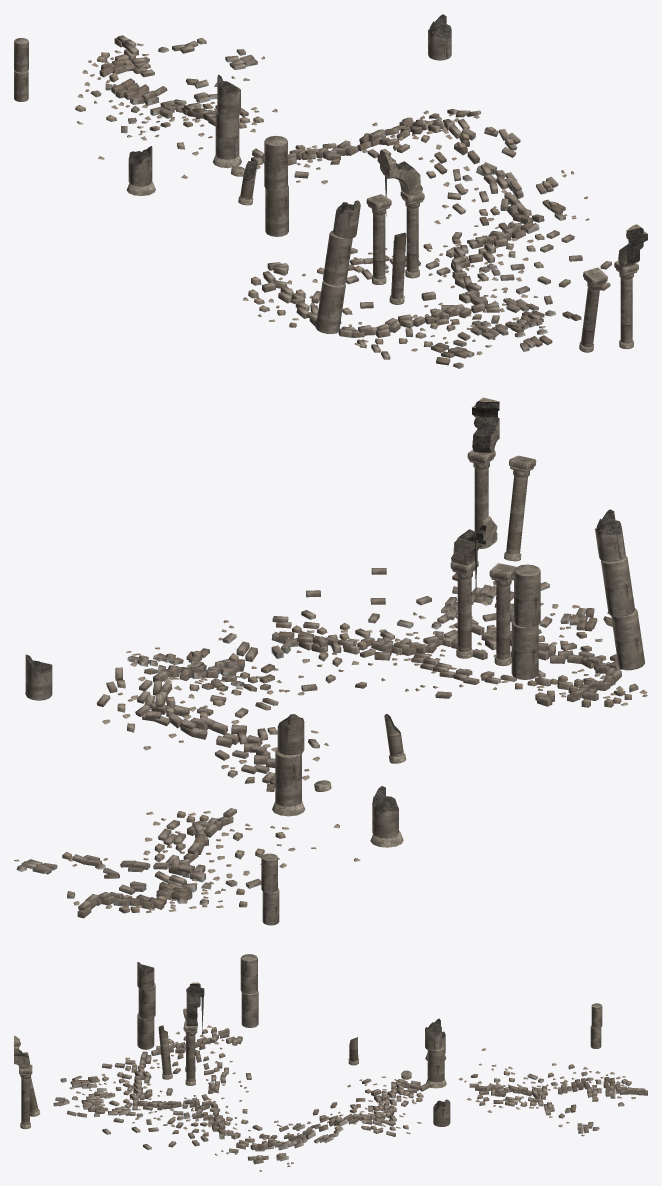
The picture shows the model from 3 angles, top to bottom: view 1: azimuth 30°, elevation 25°; view 2: azimuth 150°, elevation 25°; view 3: azimuth 270°, elevation 25°; orthographic projection. The views are drawn at different scales.
Visible parts, largest first — view 1: Material_#33, Material_#32, Material_#29, Material_#28; view 2: Material_#33, Material_#32, Material_#29, Material_#28; view 3: Material_#33, Material_#32, Material_#29, Material_#28.
Boxes of the visible parts, x1,y1,x2,y2 form: Material_#33: [75, 35, 611, 368]; Material_#32: [14, 30, 632, 347]; Material_#29: [126, 149, 647, 352]; Material_#28: [128, 14, 647, 264]; Material_#33: [14, 568, 647, 918]; Material_#32: [25, 468, 644, 925]; Material_#29: [272, 397, 536, 847]; Material_#28: [26, 401, 621, 811]; Material_#33: [53, 1025, 647, 1171]; Material_#32: [21, 954, 602, 1126]; Material_#29: [14, 982, 446, 1129]; Material_#28: [18, 962, 449, 1110].
Bounding box in the file's own units: 59.02 × 21.46 × 116.
